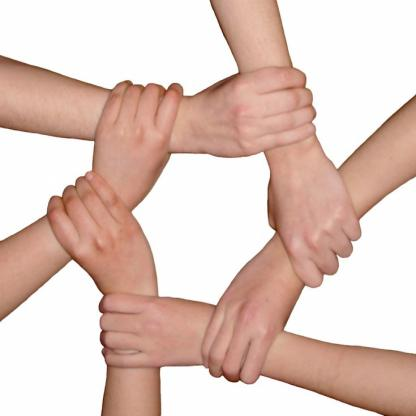Healthy Skin: (67, 208, 164, 356), (102, 86, 292, 140), (106, 305, 292, 357), (296, 341, 416, 406), (275, 153, 341, 265), (7, 68, 103, 131), (221, 0, 284, 87), (0, 235, 63, 287), (352, 139, 416, 190), (98, 142, 150, 197), (107, 370, 157, 416)
